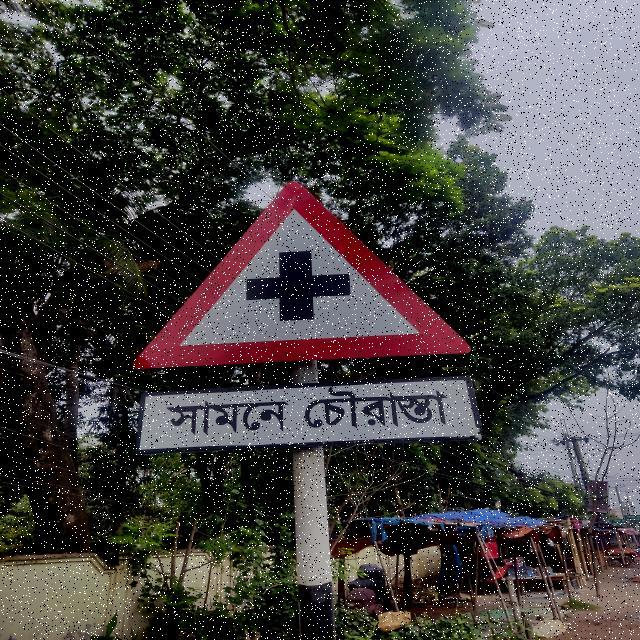Crossroads-ahead: (127, 174, 484, 455)
